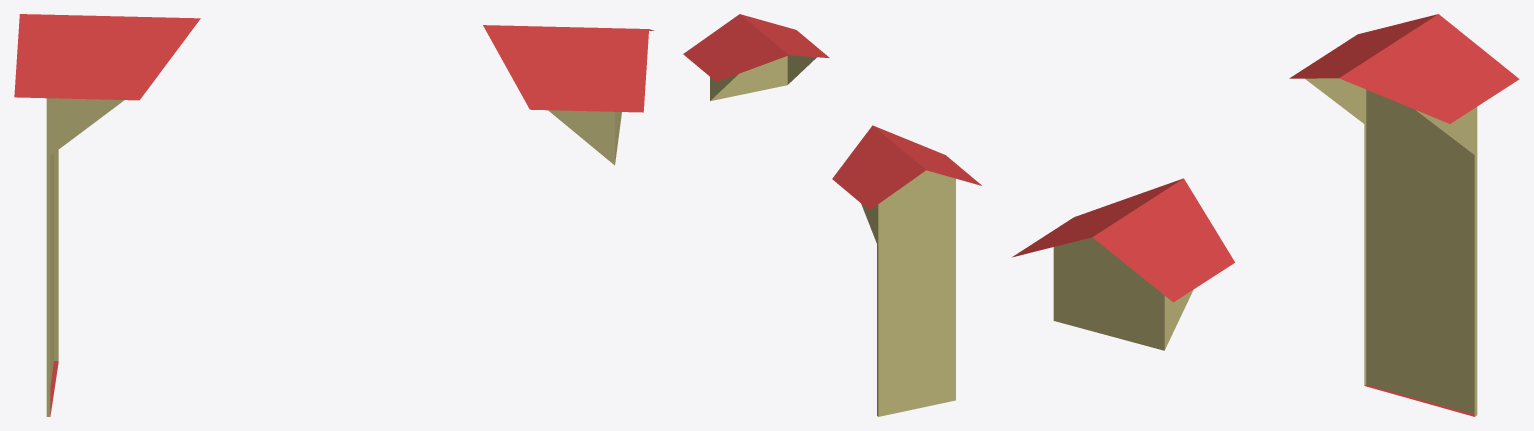
3 renders of one model, left to right at view 1: azimuth 30°, elevation 25°; view 2: azimuth 150°, elevation 25°; view 3: azimuth 270°, elevation 25°, orthographic. The views are drawn at different scales.
Parts seen in each view (by area): view 1: group_3, group_5, group_4; view 2: group_5, group_3, group_4; view 3: group_5, group_3, group_4.
Boxes of the visible parts, <box> form: group_3: <box>14,14,653,112</box>; group_5: <box>46,98,621,416</box>; group_4: <box>16,72,641,112</box>; group_5: <box>710,55,955,416</box>; group_3: <box>683,14,981,210</box>; group_4: <box>710,31,978,209</box>; group_5: <box>1053,78,1477,416</box>; group_3: <box>1012,14,1519,302</box>; group_4: <box>1019,35,1518,270</box>.
Size of the model in its own units: 15.57 by 12.47 by 10.16.
